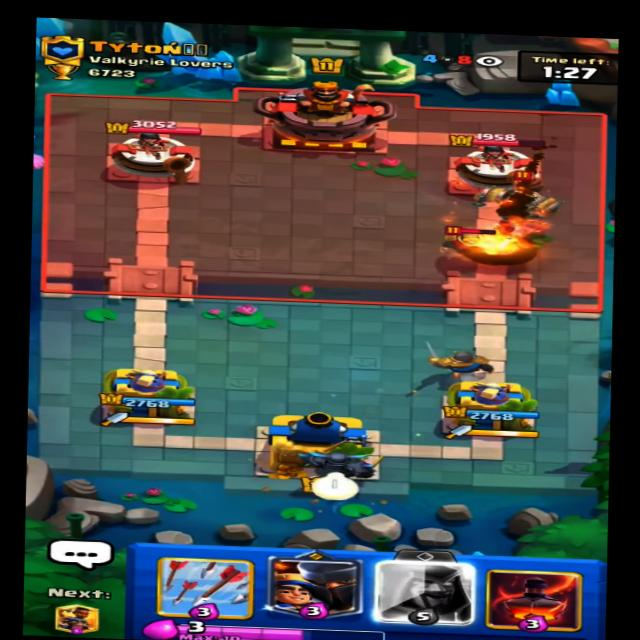goblin-machine: (475, 163, 568, 228)
knight: (431, 218, 515, 265)
